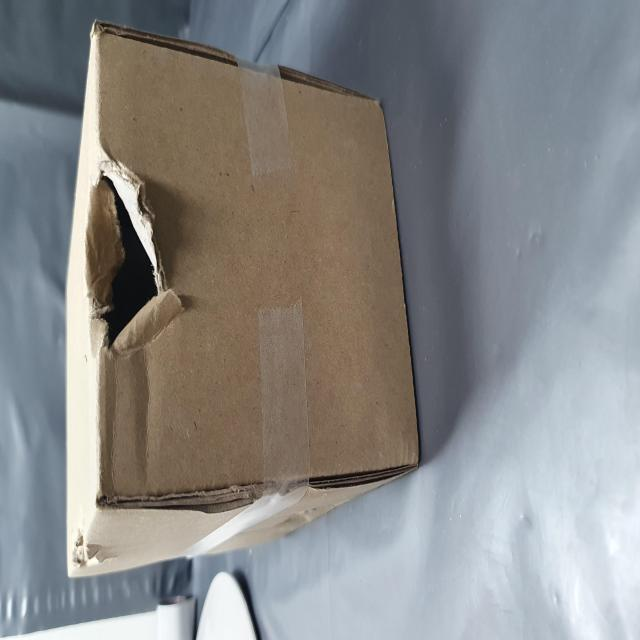damaged: (148, 150, 274, 328)
